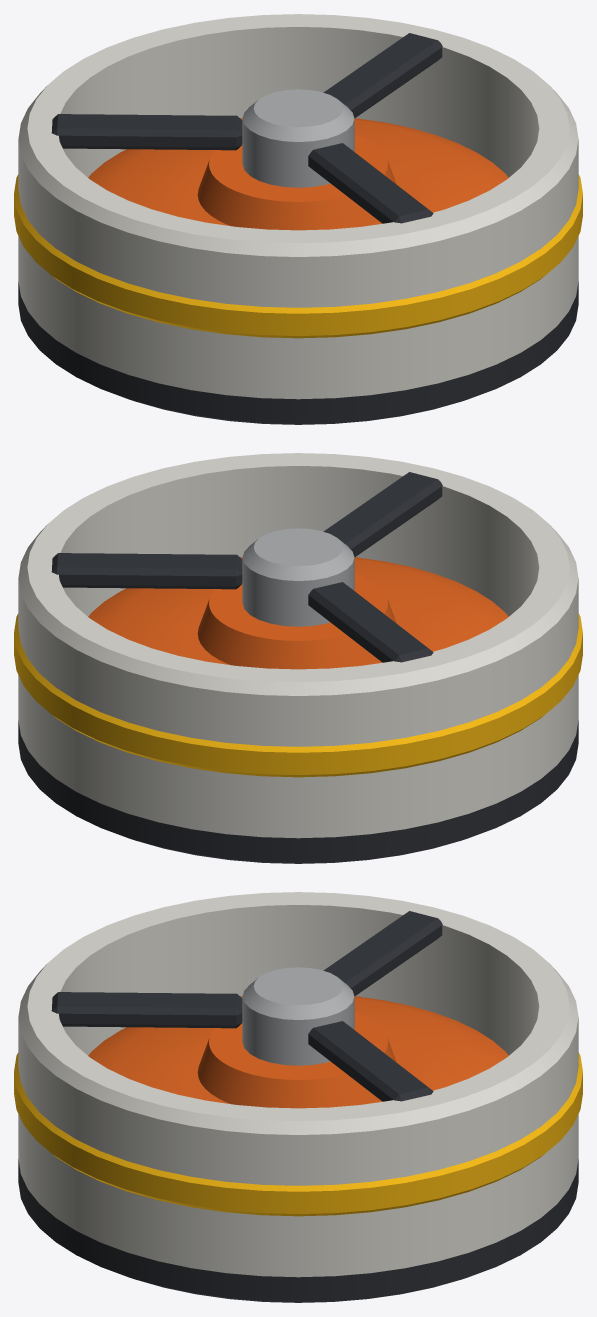
The picture shows the model from 3 angles, top to bottom: view 1: azimuth 30°, elevation 25°; view 2: azimuth 150°, elevation 25°; view 3: azimuth 270°, elevation 25°; orthographic projection.
Visible parts, largest first — view 1: Rim, Flywheel, Band.001, Arms, Base, Bearing; view 2: Rim, Flywheel, Band.001, Arms, Base, Bearing; view 3: Rim, Flywheel, Band.001, Arms, Base, Bearing.
Part boxes in pixels (<box>): Rim: <box>18,14,578,399</box>; Flywheel: <box>88,118,508,230</box>; Band.001: <box>14,174,582,338</box>; Arms: <box>51,33,442,223</box>; Base: <box>18,281,578,424</box>; Bearing: <box>242,89,354,187</box>; Rim: <box>18,453,578,838</box>; Flywheel: <box>88,557,508,669</box>; Band.001: <box>14,613,582,777</box>; Arms: <box>51,472,442,662</box>; Base: <box>18,720,578,863</box>; Bearing: <box>242,528,354,626</box>; Rim: <box>18,892,578,1277</box>; Flywheel: <box>88,996,508,1108</box>; Band.001: <box>14,1052,582,1216</box>; Arms: <box>51,911,442,1101</box>; Base: <box>18,1159,578,1302</box>; Bearing: <box>242,967,354,1065</box>.
Bounding box in the file's own units: 0.508 × 0.2 × 0.508.
